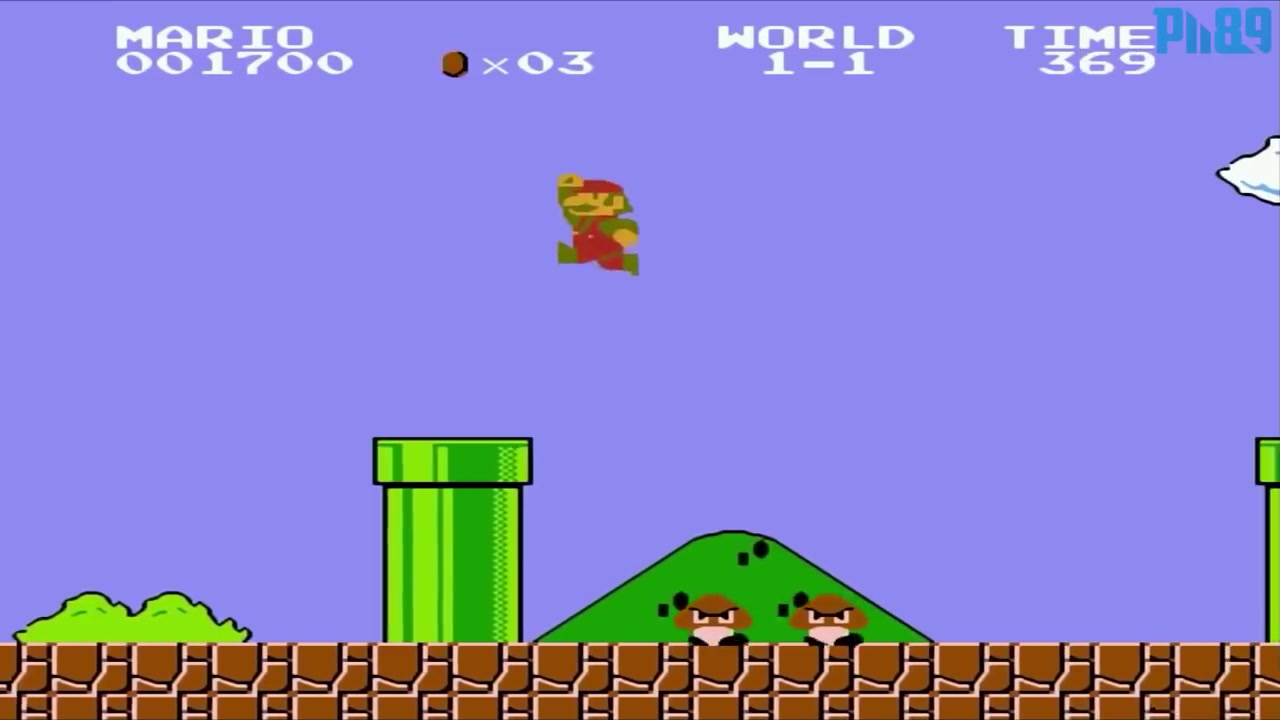mario: (544, 164, 659, 290)
